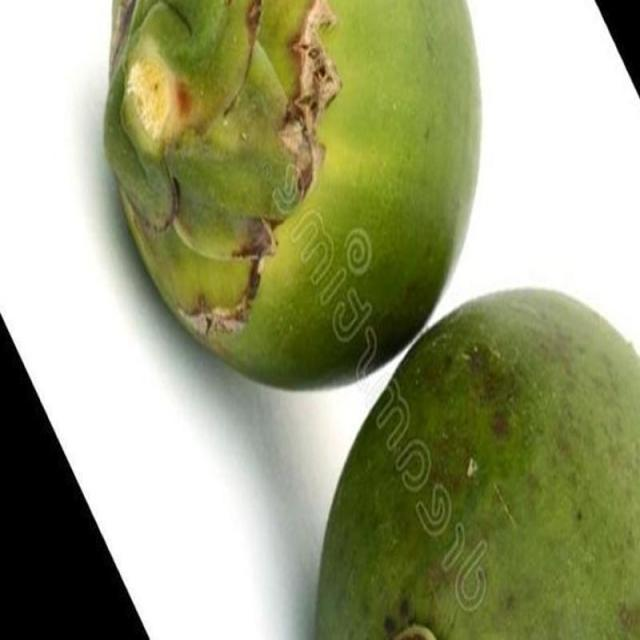good: (102, 0, 485, 395), (313, 290, 639, 639)
